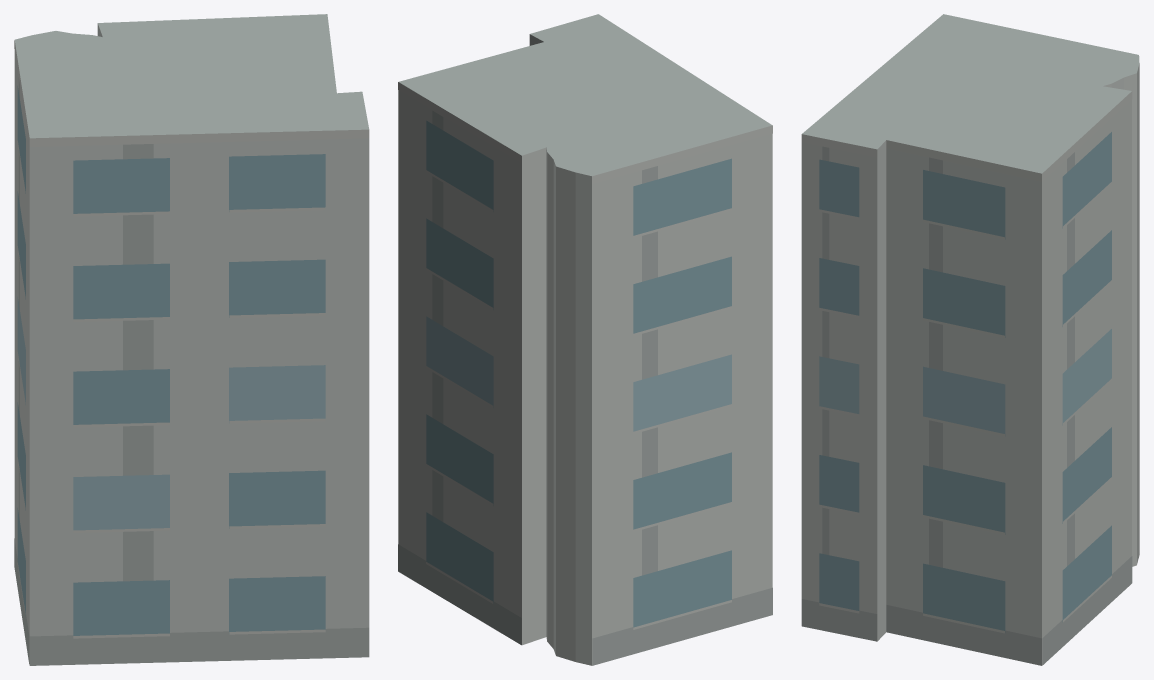
File: survey-upis-32733887.glb
3 renders of one model, left to right at view 1: azimuth 30°, elevation 25°; view 2: azimuth 150°, elevation 25°; view 3: azimuth 270°, elevation 25°, orthographic. The views are drawn at different scales.
Visible parts, largest first — view 1: survey-upis-32733887.tmp; view 2: survey-upis-32733887.tmp; view 3: survey-upis-32733887.tmp.
Boxes of the visible parts, bbox=[...] form: survey-upis-32733887.tmp: bbox=[14, 14, 369, 665]; survey-upis-32733887.tmp: bbox=[398, 14, 772, 665]; survey-upis-32733887.tmp: bbox=[801, 14, 1139, 665].
Bounding box in the file's own units: 10.16 × 14.6 × 9.09.
